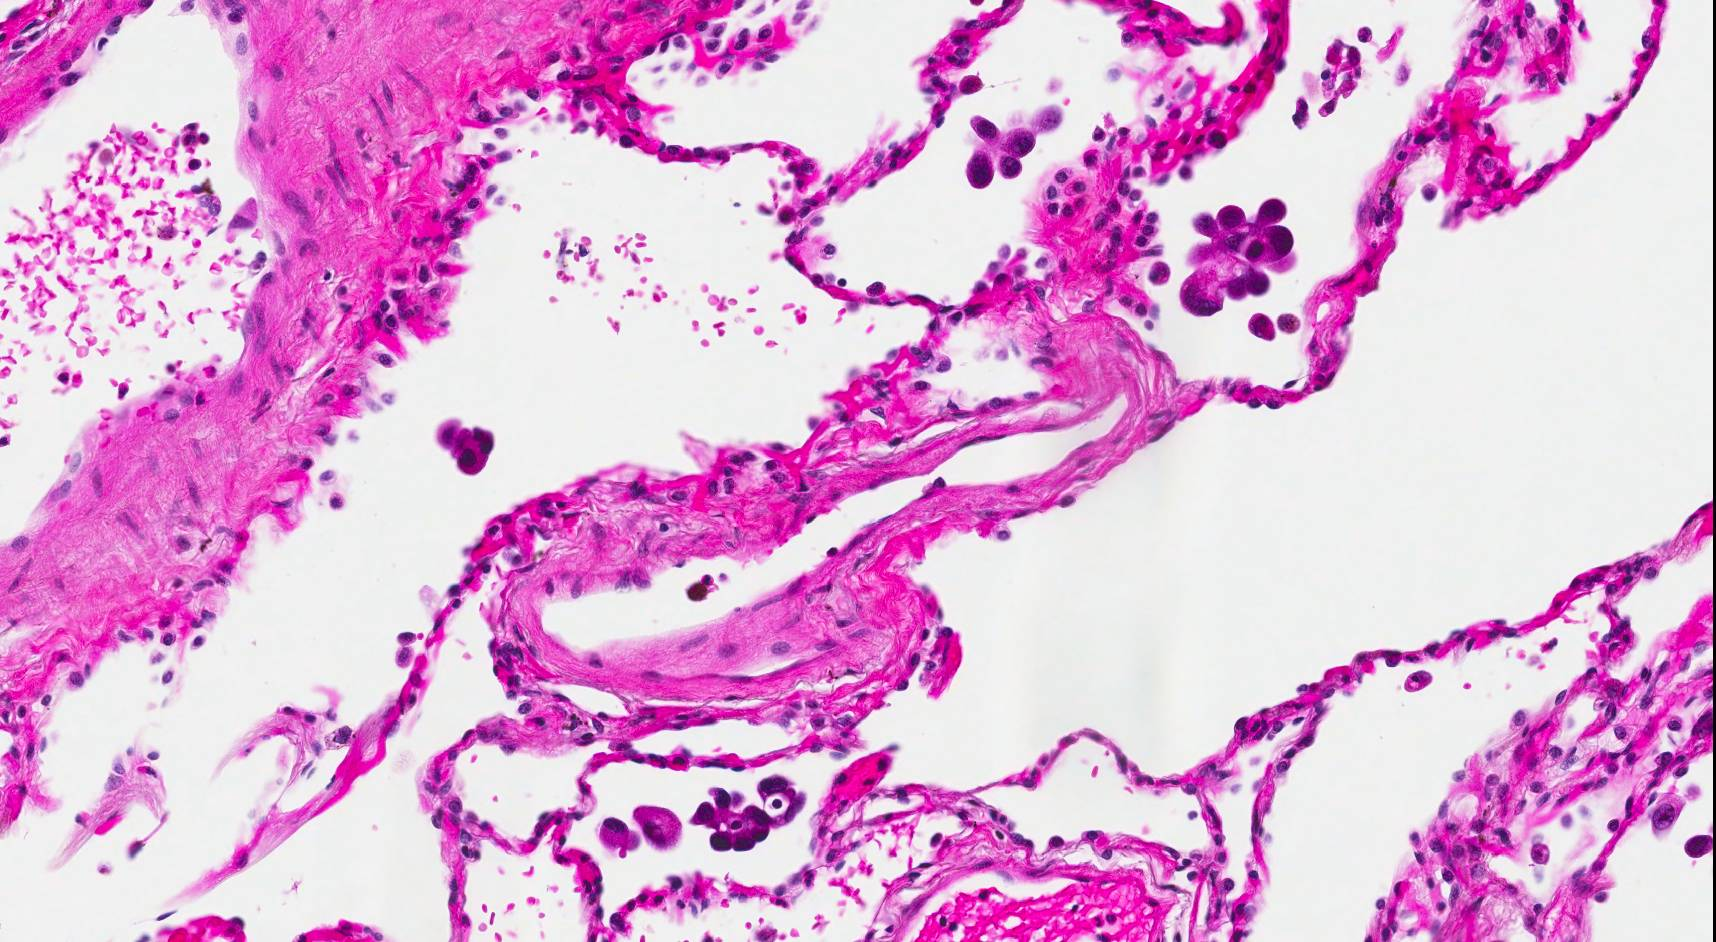stas: (1180, 195, 1301, 320), (689, 774, 812, 856), (961, 106, 1067, 190), (435, 414, 500, 477)
